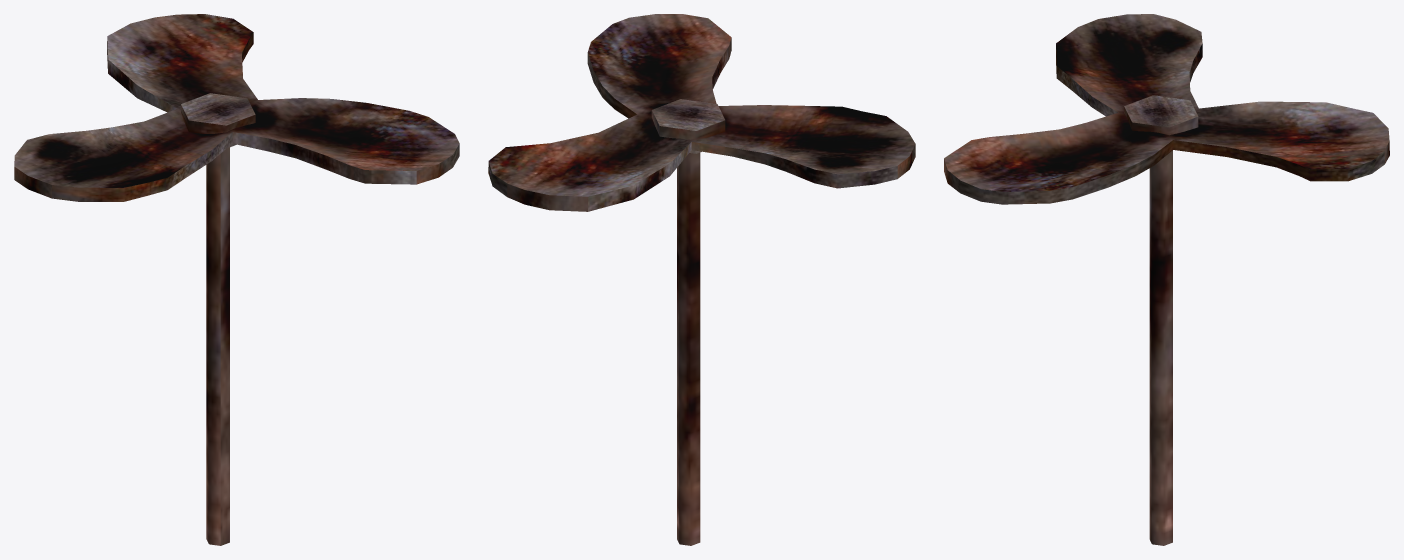
Rendered from door_shaft_propeller.dae.
3 renders of one model, left to right at view 1: azimuth 30°, elevation 25°; view 2: azimuth 150°, elevation 25°; view 3: azimuth 270°, elevation 25°, orthographic.
Visible parts, largest first — view 1: propeller; view 2: propeller; view 3: propeller.
Part boxes in pixels (x1,y1,x2,y2): propeller: (14, 14, 459, 545); propeller: (488, 14, 915, 545); propeller: (944, 14, 1389, 545).
Size of the model in its own units: 4.31 by 4.87 by 4.58.
